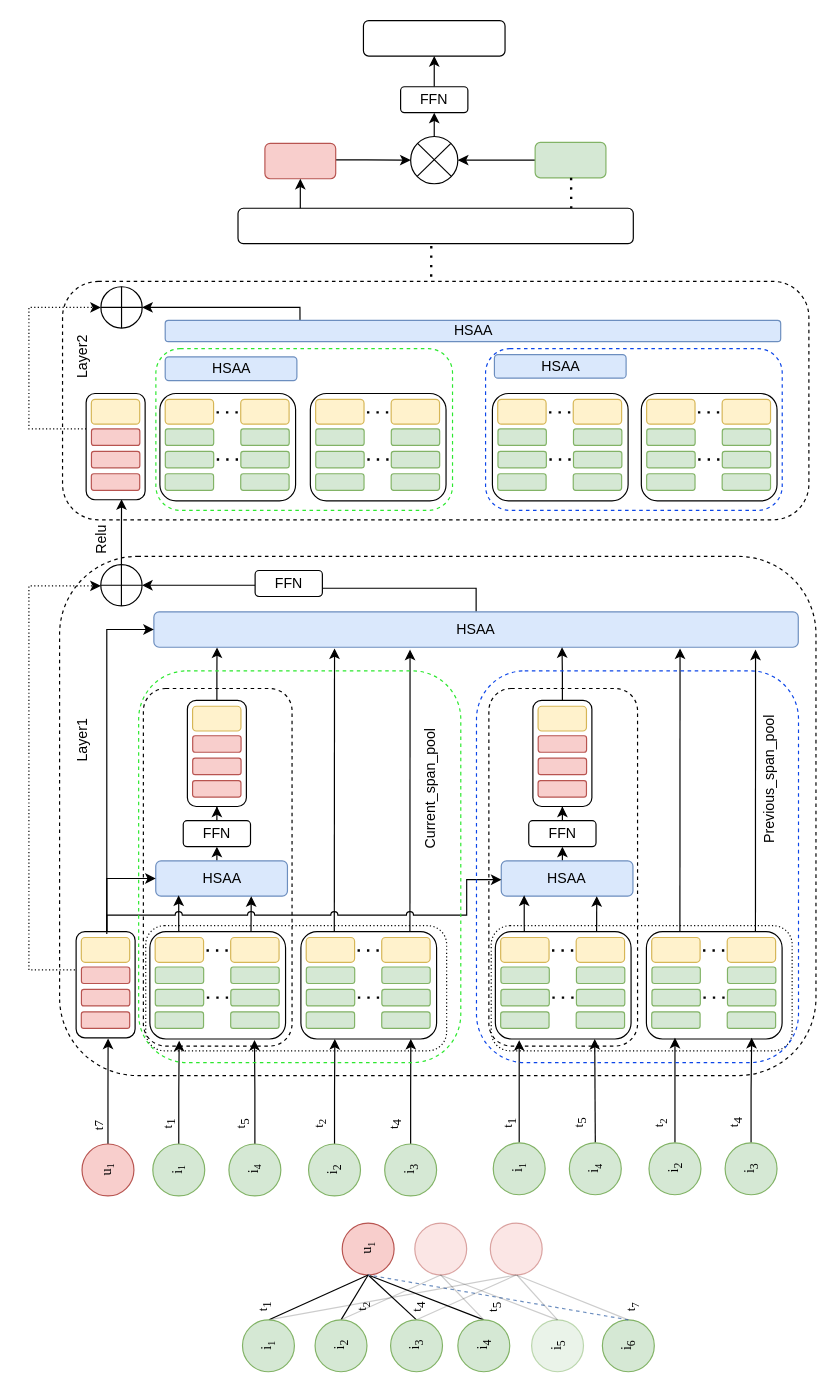
Image size: 837x1392. Some labels were removed from this diagram. Each missing label, with the centre of its shape:
DHTT Block: pixel 435 225
SNLoss: pixel 433 37
u 2: pixel 440 1248
u 3: pixel 515 1248
